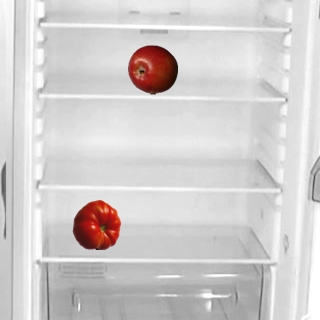Apple Braeburn: (127, 44, 177, 94)
Tomato 3: (71, 199, 121, 249)
